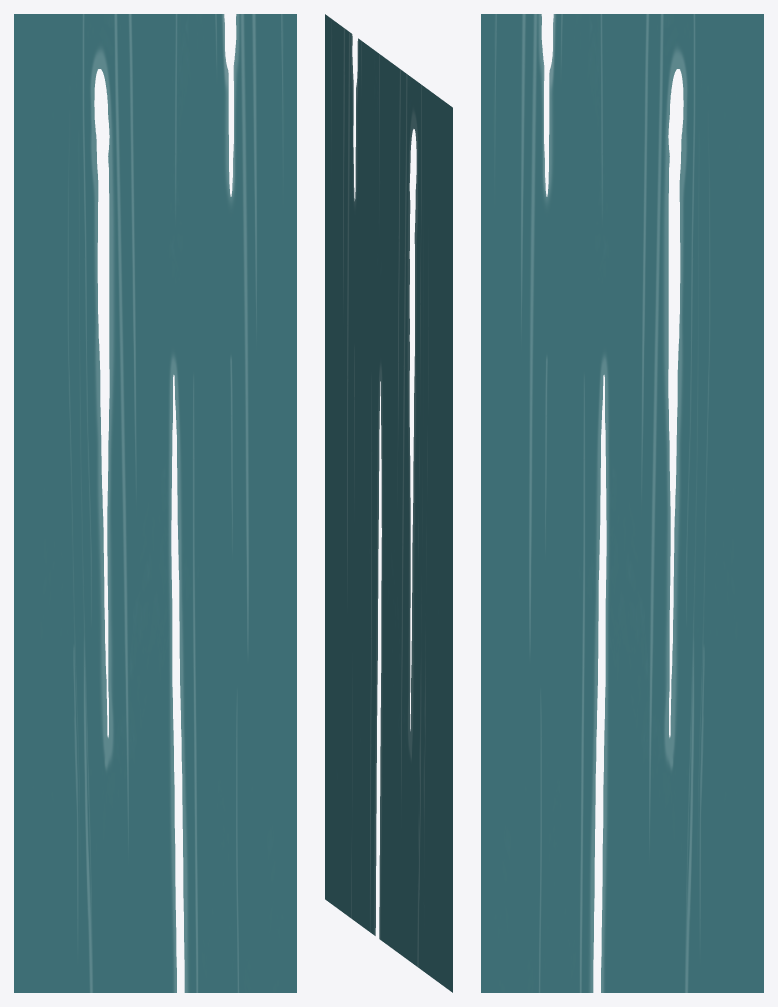
The model's file is Waterfall_TryFinal.FBX.
3 views of the same model, side by side, from view 1: azimuth 90°, elevation 25°; view 2: azimuth 210°, elevation 25°; view 3: azimuth 270°, elevation 25° (orthographic). The views are drawn at different scales.
Parts seen in each view (by area): view 1: Plane002; view 2: Plane002; view 3: Plane002.
Part boxes in pixels (x1,y1,x2,y2): Plane002: (14,14,296,992); Plane002: (325,14,452,992); Plane002: (481,14,763,992).
Bounding box in the file's own units: 0 × 39.2 × 150.
